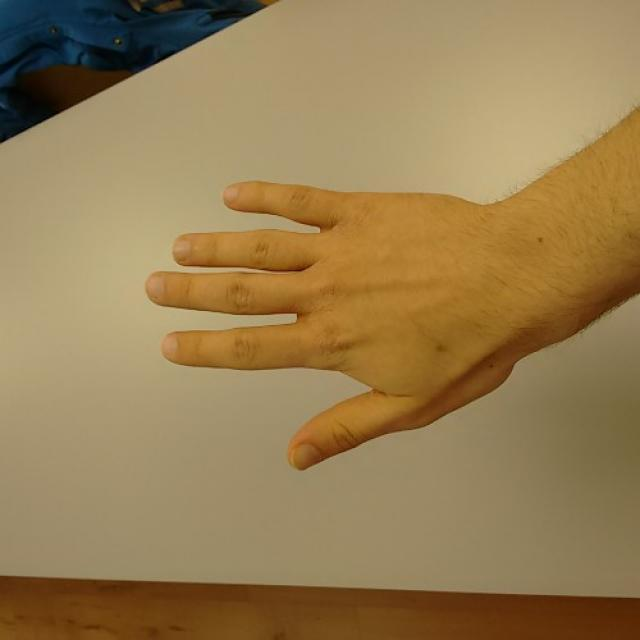paper: (148, 180, 510, 470)
